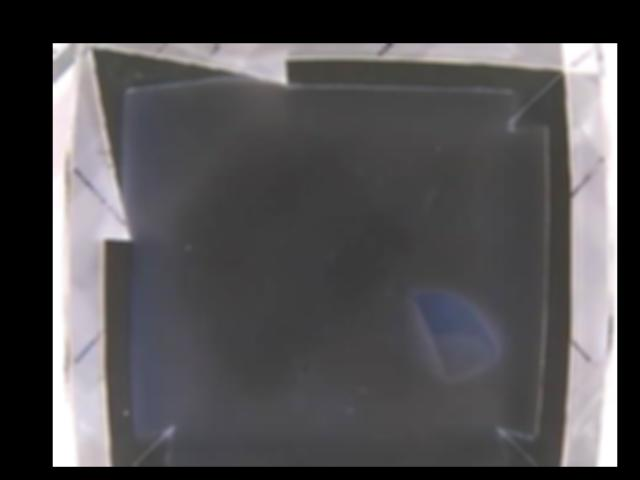Mooli: (413, 290, 499, 380)
